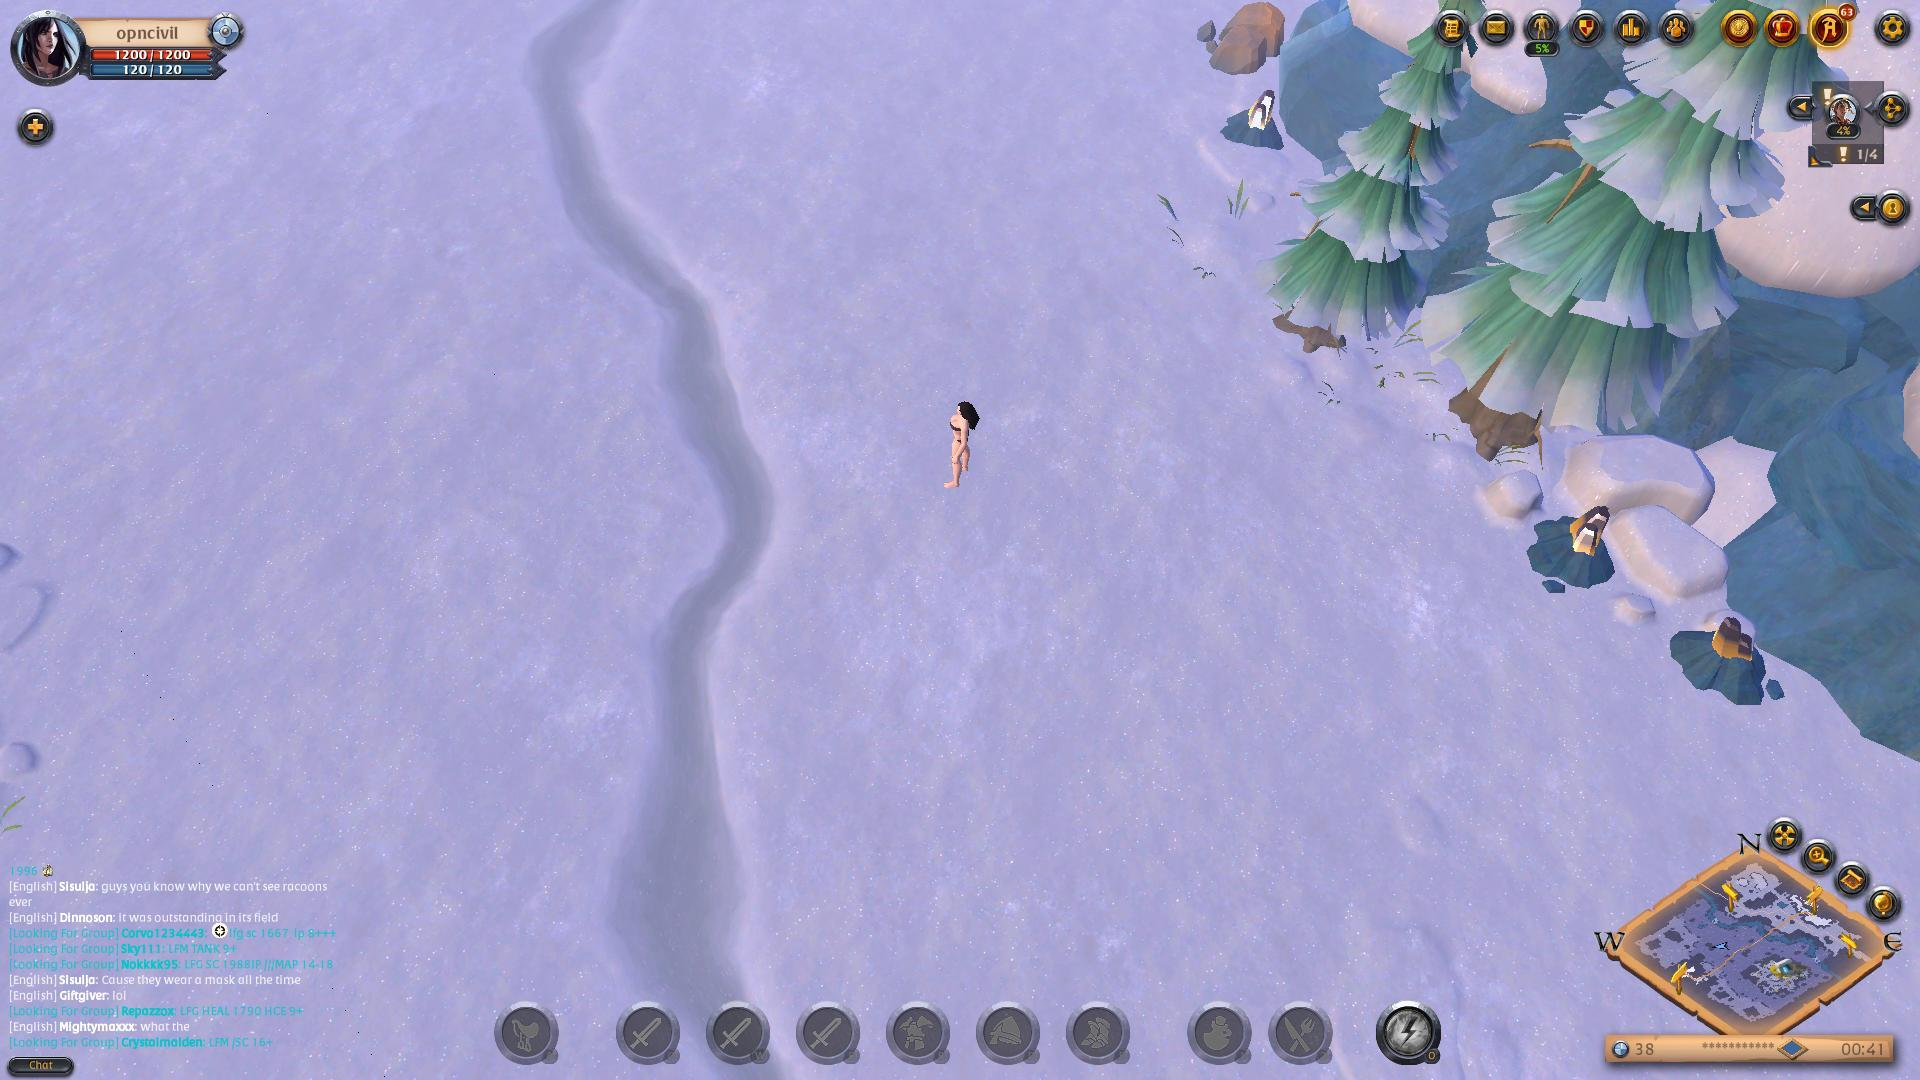copper_ore: (1659, 613, 1785, 705), (1519, 501, 1631, 592), (1215, 94, 1294, 152)
limestone: (1193, 0, 1291, 73)
